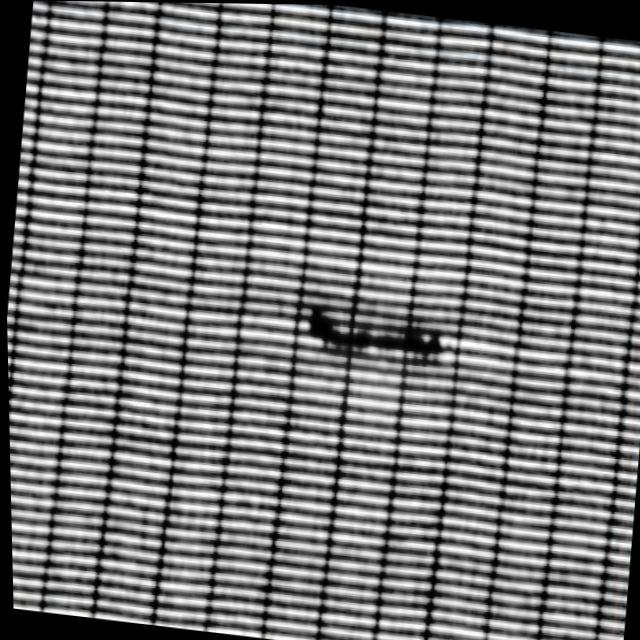Stitch: (279, 268, 467, 396)
